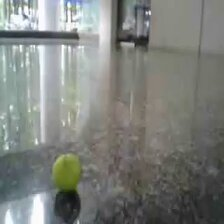tennis: (52, 153, 80, 189)
